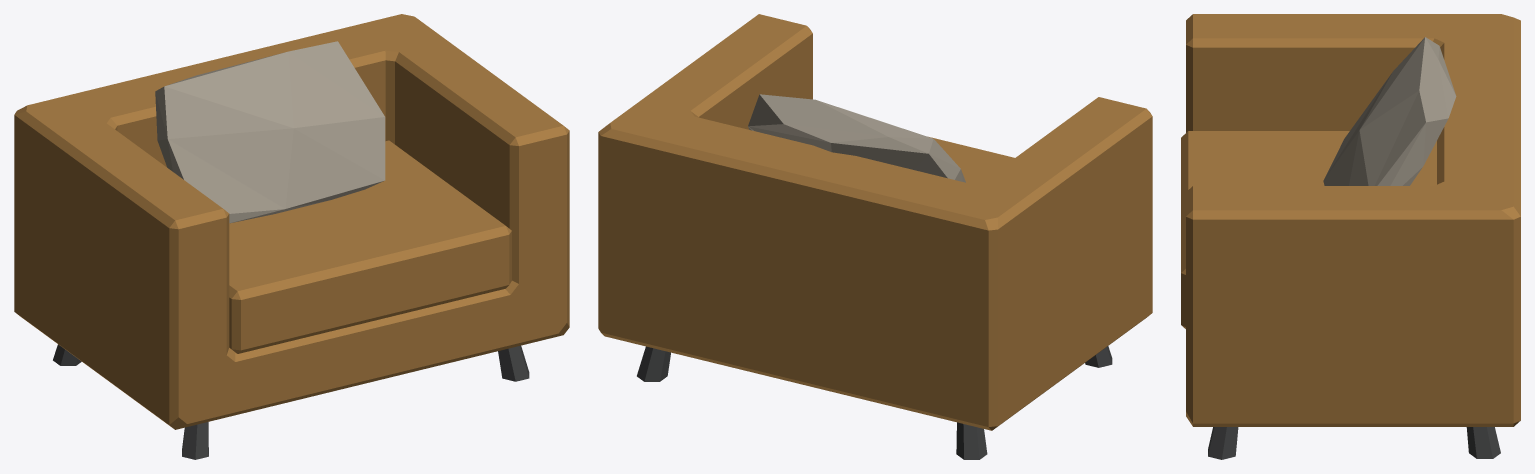
Rendered from SM_Props_Interior_House_Room_Sofa_02_Armchair.fbx.
3 renders of one model, left to right at view 1: azimuth 30°, elevation 25°; view 2: azimuth 150°, elevation 25°; view 3: azimuth 270°, elevation 25°, orthographic. The views are drawn at different scales.
Visible parts, largest first — view 1: SM_Props_Interior_House_Room_Sofa_02_Armchair; view 2: SM_Props_Interior_House_Room_Sofa_02_Armchair; view 3: SM_Props_Interior_House_Room_Sofa_02_Armchair.
Boxes of the visible parts, left/top/right/bottom form: SM_Props_Interior_House_Room_Sofa_02_Armchair: left=14, top=14, right=569, bottom=459; SM_Props_Interior_House_Room_Sofa_02_Armchair: left=598, top=14, right=1152, bottom=459; SM_Props_Interior_House_Room_Sofa_02_Armchair: left=1181, top=14, right=1520, bottom=459.
Size of the model in its own units: 100 by 68.26 by 71.
